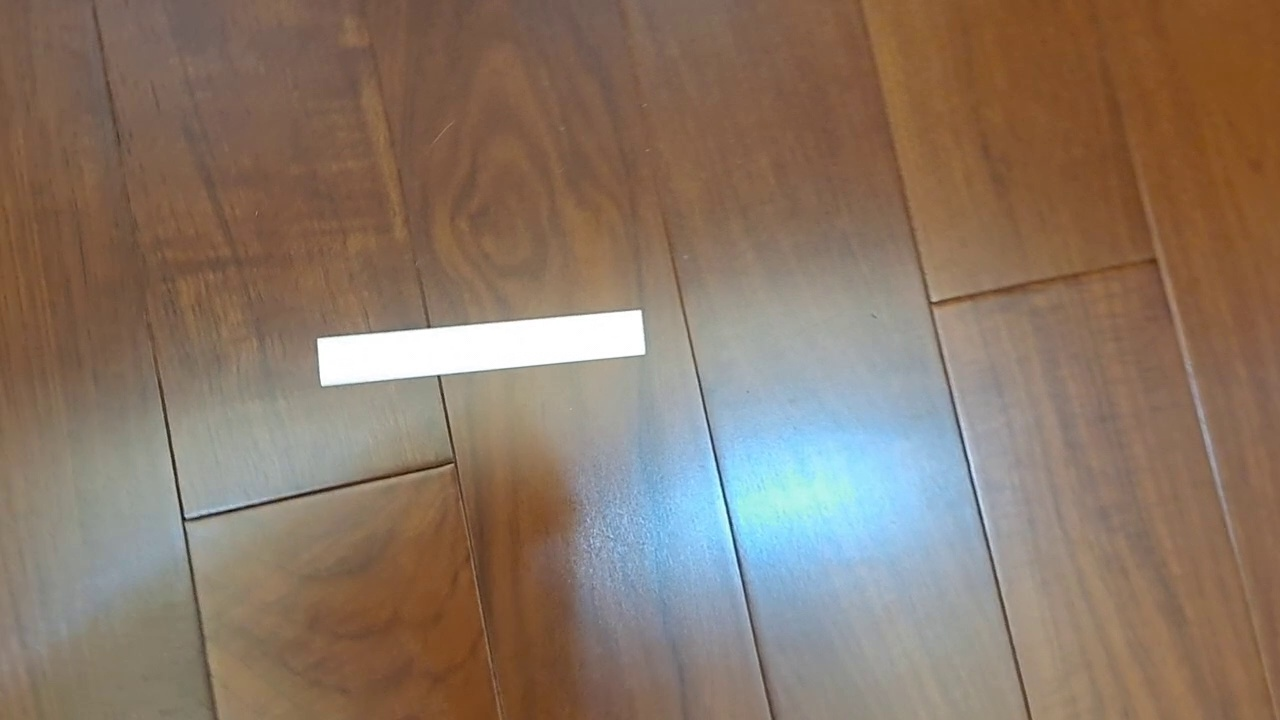ruler: (316, 308, 647, 387)
